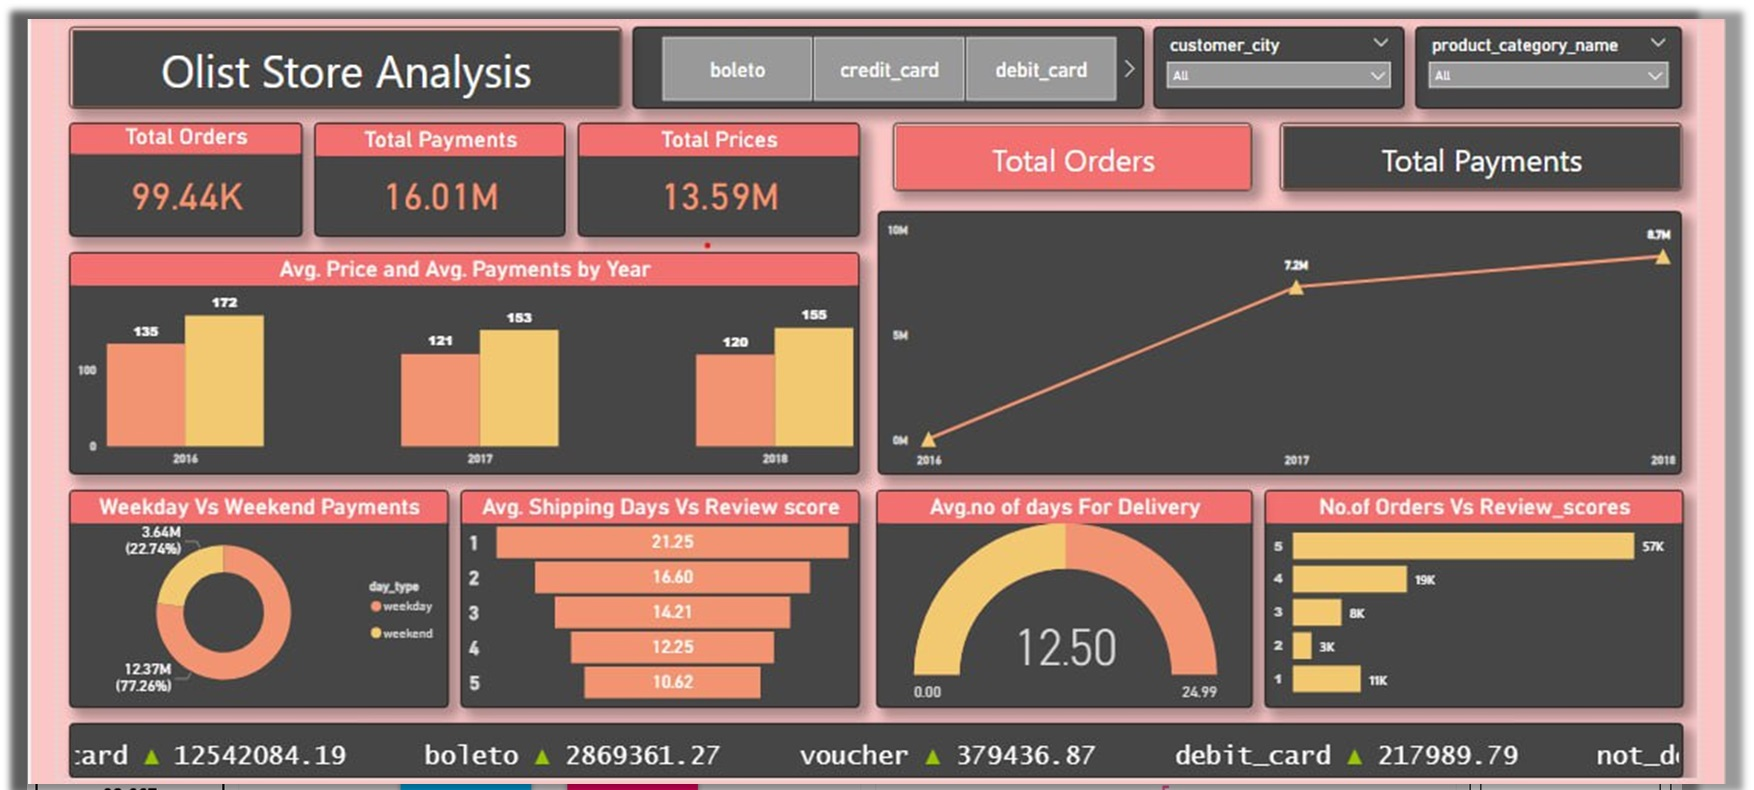

This screenshot's page, from the dashboard's own definition file:
{"tool":"tableau","page":{"name":"Dashboard 1","canvas":[1500,825],"ordinal":0},"visuals":[{"type":"image","param":"Image/logo.png","box":[8,8,177,80]},{"type":"blank","box":[185,8,612,80]},{"type":"filter","title":"KPI 2","param":"[federated.1v7ubre016np7q180fmtm0u4v7i0].[none:payment_type:nk]","box":[797,8,280,80]},{"type":"filter","title":"KPI 1","param":"[federated.1v7ubre016np7q180fmtm0u4v7i0].[yr:order_purchase_timestamp:ok]","box":[1077,8,147,80]},{"type":"filter","title":"KPI 5","param":"[federated.1v7ubre016np7q180fmtm0u4v7i0].[none:customer_city:nk]","box":[1224,8,268,80]},{"type":"text","box":[155,14,584,72]},{"type":"dashboard-object","box":[738,16,55,62]},{"type":"worksheet","title":"Sheet 7","mark":"Automatic","box":[8,88,177,182.2]},{"type":"worksheet","title":"KPI 1","mark":"Pie","rows":["Calculation_2102618134568779776","Calculation_2102618134568779776"],"box":[185,88,431,377]},{"type":"worksheet","title":"Sheet 6","mark":"Automatic","box":[616,88,406,377]},{"type":"worksheet","title":"KPI 4","mark":"Bar","cols":["order_purchase_timestamp"],"box":[1022,88,470,377]},{"type":"worksheet","title":"Sheet 7 (2)","mark":"Automatic","box":[8,270.2,177,182.2]},{"type":"worksheet","title":"Sheet 7 (3)","mark":"Automatic","box":[8,452.5,177,182.2]},{"type":"worksheet","title":"KPI 2","mark":"Bar","rows":["order_id"],"cols":["review_score"],"box":[185,465,521,352]},{"type":"worksheet","title":"KPI 3","mark":"Automatic","box":[706,465,266.4,352]},{"type":"worksheet","title":"KPI 5","mark":"Automatic","rows":["number_of_days"],"cols":["review_score"],"box":[972.4,465,519.6,352]},{"type":"worksheet","title":"Sheet 7 (4)","mark":"Automatic","box":[8,634.7,177,182.2]}]}

Visuals, with their boxes on the page's 1500x825 design canvas (x1, y1, x2, y2). These are canvas units, not pixel positions in the 1754x790 screenshot, which may show the page scaled, cropped or inside an application window:
image: {"left": 8, "top": 8, "right": 185, "bottom": 88}
blank: {"left": 185, "top": 8, "right": 797, "bottom": 88}
"KPI 2" filter: {"left": 797, "top": 8, "right": 1077, "bottom": 88}
"KPI 1" filter: {"left": 1077, "top": 8, "right": 1224, "bottom": 88}
"KPI 5" filter: {"left": 1224, "top": 8, "right": 1492, "bottom": 88}
text: {"left": 155, "top": 14, "right": 739, "bottom": 86}
dashboard-object: {"left": 738, "top": 16, "right": 793, "bottom": 78}
"Sheet 7" worksheet: {"left": 8, "top": 88, "right": 185, "bottom": 270}
"KPI 1" worksheet (Pie marks): {"left": 185, "top": 88, "right": 616, "bottom": 465}
"Sheet 6" worksheet: {"left": 616, "top": 88, "right": 1022, "bottom": 465}
"KPI 4" worksheet (Bar marks): {"left": 1022, "top": 88, "right": 1492, "bottom": 465}
"Sheet 7 (2)" worksheet: {"left": 8, "top": 270, "right": 185, "bottom": 452}
"Sheet 7 (3)" worksheet: {"left": 8, "top": 452, "right": 185, "bottom": 635}
"KPI 2" worksheet (Bar marks): {"left": 185, "top": 465, "right": 706, "bottom": 817}
"KPI 3" worksheet: {"left": 706, "top": 465, "right": 972, "bottom": 817}
"KPI 5" worksheet: {"left": 972, "top": 465, "right": 1492, "bottom": 817}
"Sheet 7 (4)" worksheet: {"left": 8, "top": 635, "right": 185, "bottom": 817}
